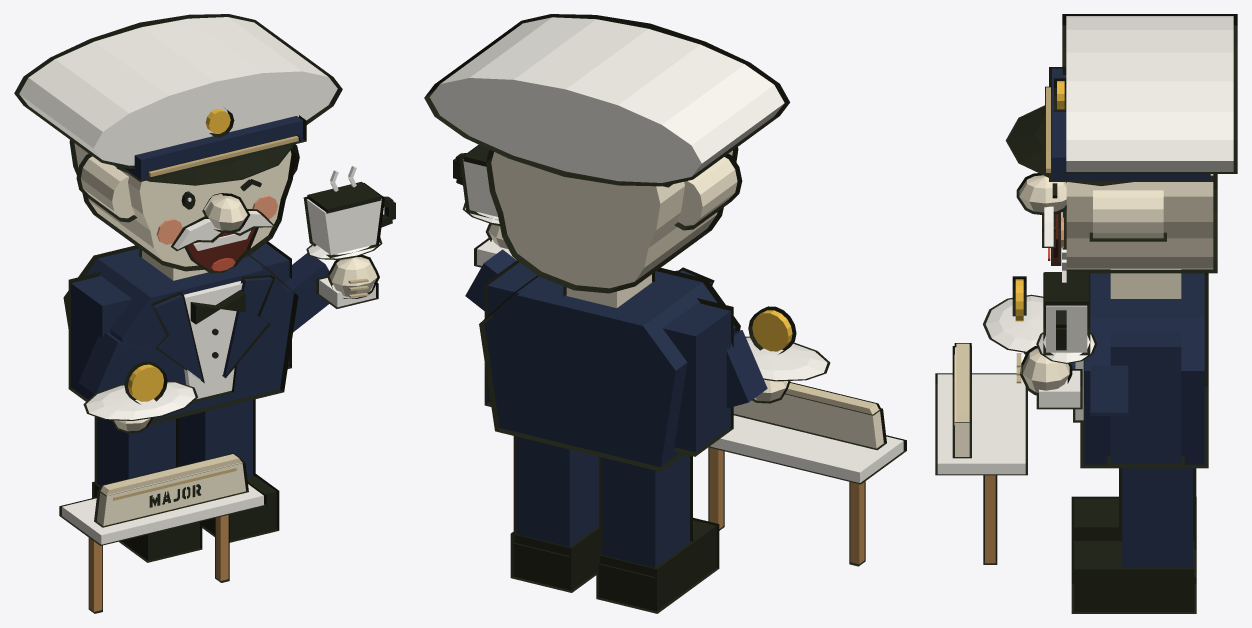
3 renders of one model, left to right at view 1: azimuth 30°, elevation 25°; view 2: azimuth 150°, elevation 25°; view 3: azimuth 270°, elevation 25°, orthographic. The views are drawn at different scales.
Parts seen in each view (by area): view 1: Link Marine; view 2: Link Marine; view 3: Link Marine.
Boxes of the visible parts, x1,y1,x2,y2 form: Link Marine: (14, 14, 395, 613); Link Marine: (424, 14, 906, 613); Link Marine: (935, 14, 1237, 613).
Size of the model in its own units: 0.7725 by 0.9942 by 0.5155.
